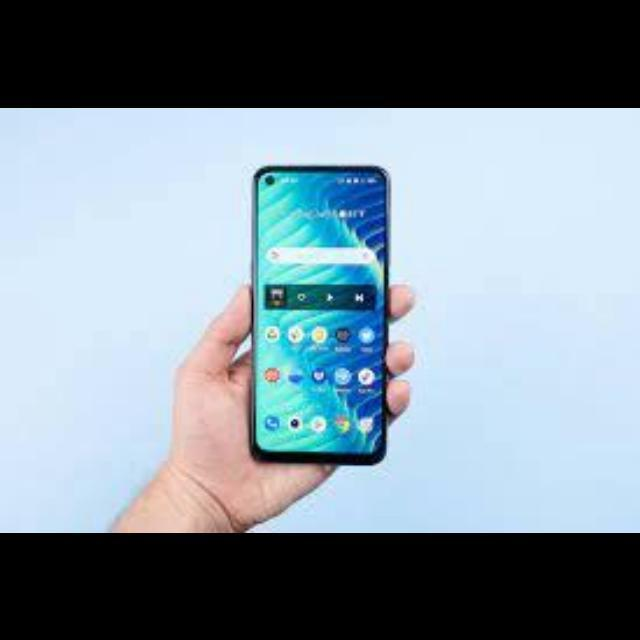PhoneUse: (252, 163, 390, 465)
